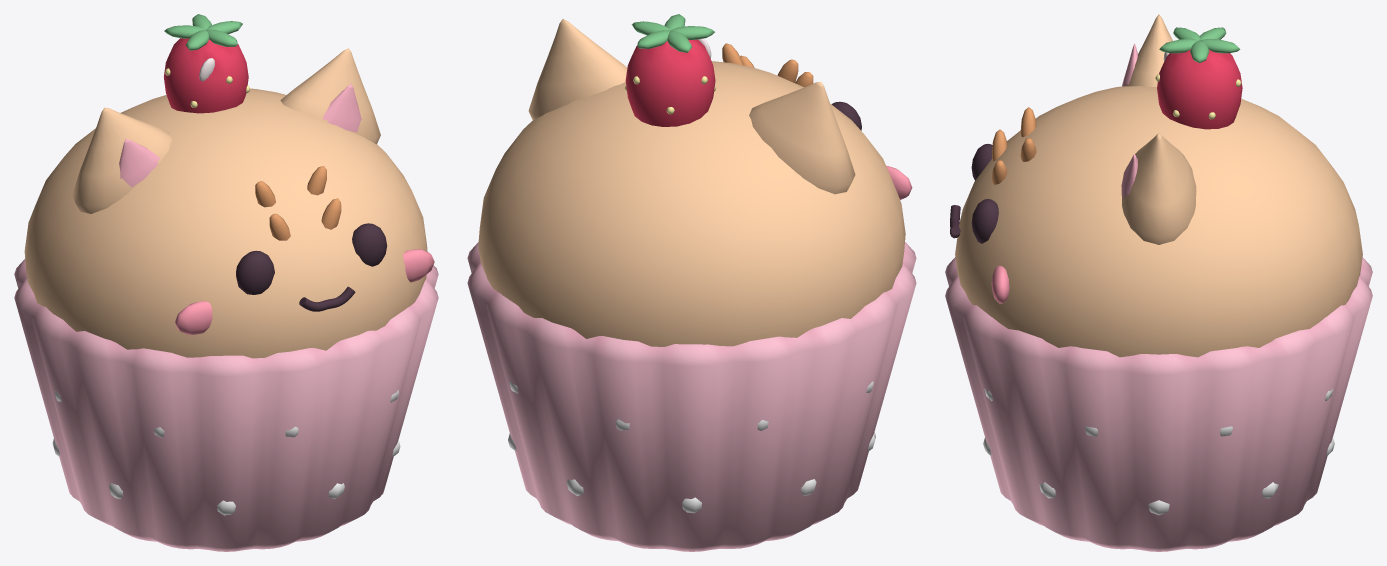
Rendered from kittycupcake.glb.
The picture shows the model from 3 angles, left to right: view 1: azimuth 30°, elevation 25°; view 2: azimuth 150°, elevation 25°; view 3: azimuth 270°, elevation 25°; orthographic projection. The views are drawn at different scales.
Parts seen in each view (by area): view 1: cffd1a6, wrapper, berry_body, g4b3442, cffb3c6, cff9bb0, ce8a06a, c7cc68a, cffffff, mouth; view 2: cffd1a6, wrapper, berry_body, c7cc68a, cffffff, ce8a06a; view 3: cffd1a6, wrapper, berry_body, c7cc68a, g4b3442, ce8a06a, cffffff, cffb3c6, cff9bb0.
Boxes of the visible parts, bbox=[...] form: cffd1a6: bbox=[24, 48, 427, 358]; wrapper: bbox=[14, 259, 438, 551]; berry_body: bbox=[164, 38, 248, 113]; g4b3442: bbox=[236, 223, 387, 294]; cffb3c6: bbox=[119, 83, 361, 187]; cff9bb0: bbox=[175, 249, 434, 334]; ce8a06a: bbox=[255, 166, 341, 240]; c7cc68a: bbox=[164, 14, 242, 50]; cffffff: bbox=[52, 390, 400, 515]; mouth: bbox=[299, 286, 355, 311]; cffd1a6: bbox=[478, 19, 905, 346]; wrapper: bbox=[467, 242, 916, 551]; berry_body: bbox=[625, 39, 715, 126]; c7cc68a: bbox=[631, 14, 714, 52]; cffffff: bbox=[508, 380, 875, 513]; ce8a06a: bbox=[722, 43, 813, 87]; cffd1a6: bbox=[955, 14, 1362, 357]; wrapper: bbox=[945, 257, 1372, 551]; berry_body: bbox=[1157, 49, 1242, 129]; c7cc68a: bbox=[1159, 27, 1240, 62]; g4b3442: bbox=[971, 144, 998, 243]; ce8a06a: bbox=[992, 107, 1036, 184]; cffffff: bbox=[983, 388, 1334, 515]; cffb3c6: bbox=[1121, 43, 1137, 198]; cff9bb0: bbox=[991, 265, 1009, 303].
Bounding box in the file's own units: 0.5304 × 0.6125 × 0.5243.
